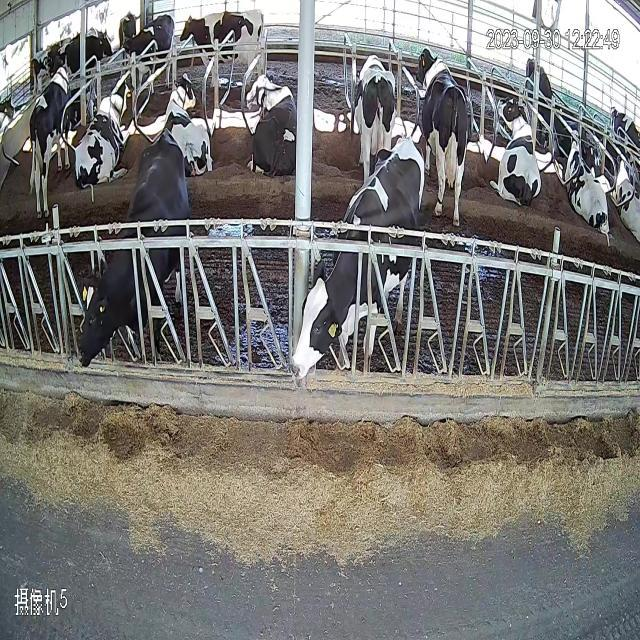lying down: (240, 68, 316, 215), (489, 83, 544, 229), (77, 70, 134, 186), (566, 127, 610, 242), (162, 80, 212, 181)
standing: (184, 8, 284, 86)
